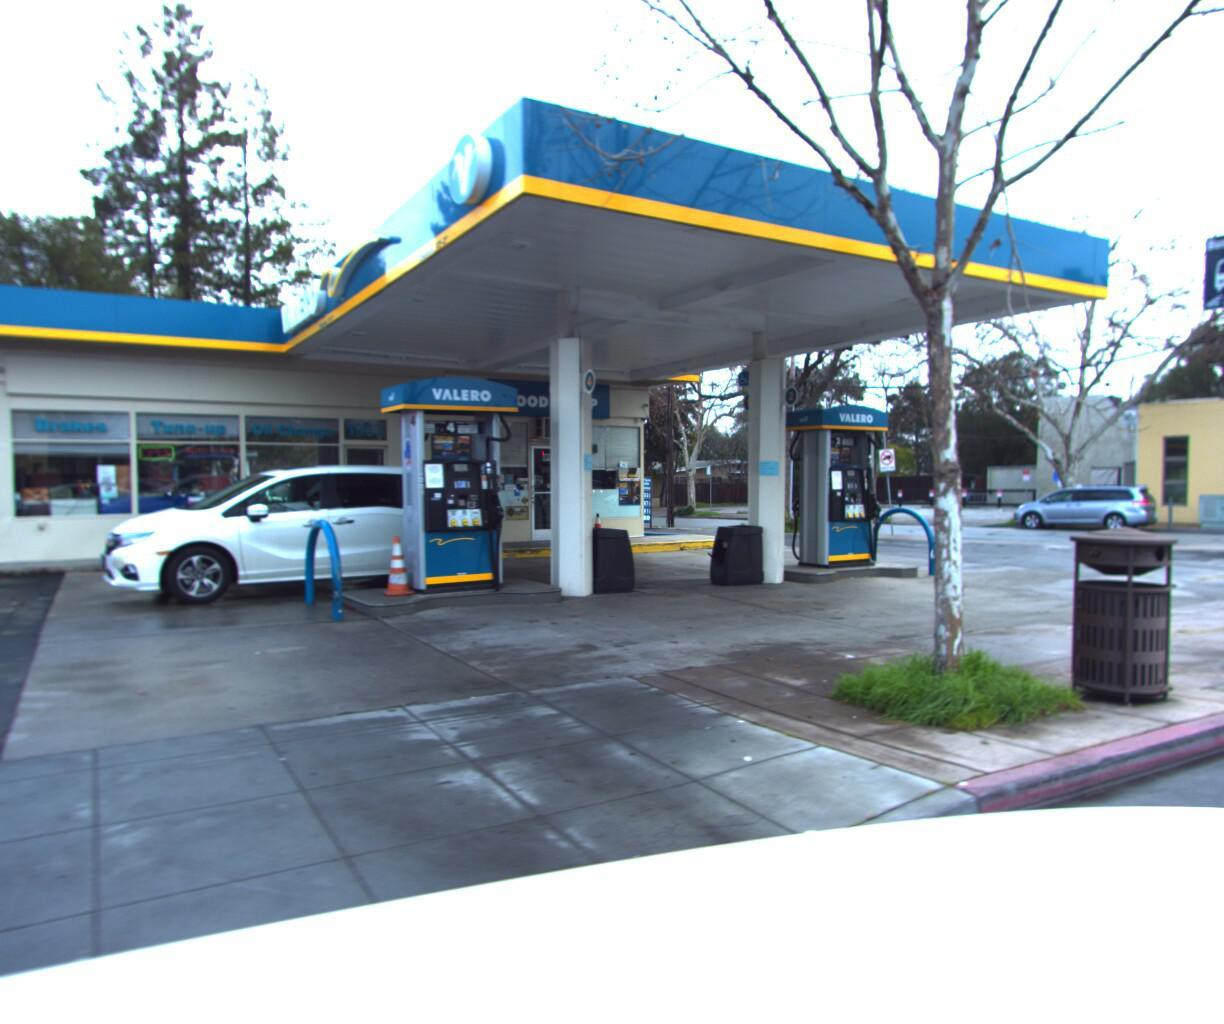car: (78, 457, 514, 617), (1008, 478, 1164, 530), (0, 489, 9, 537)
